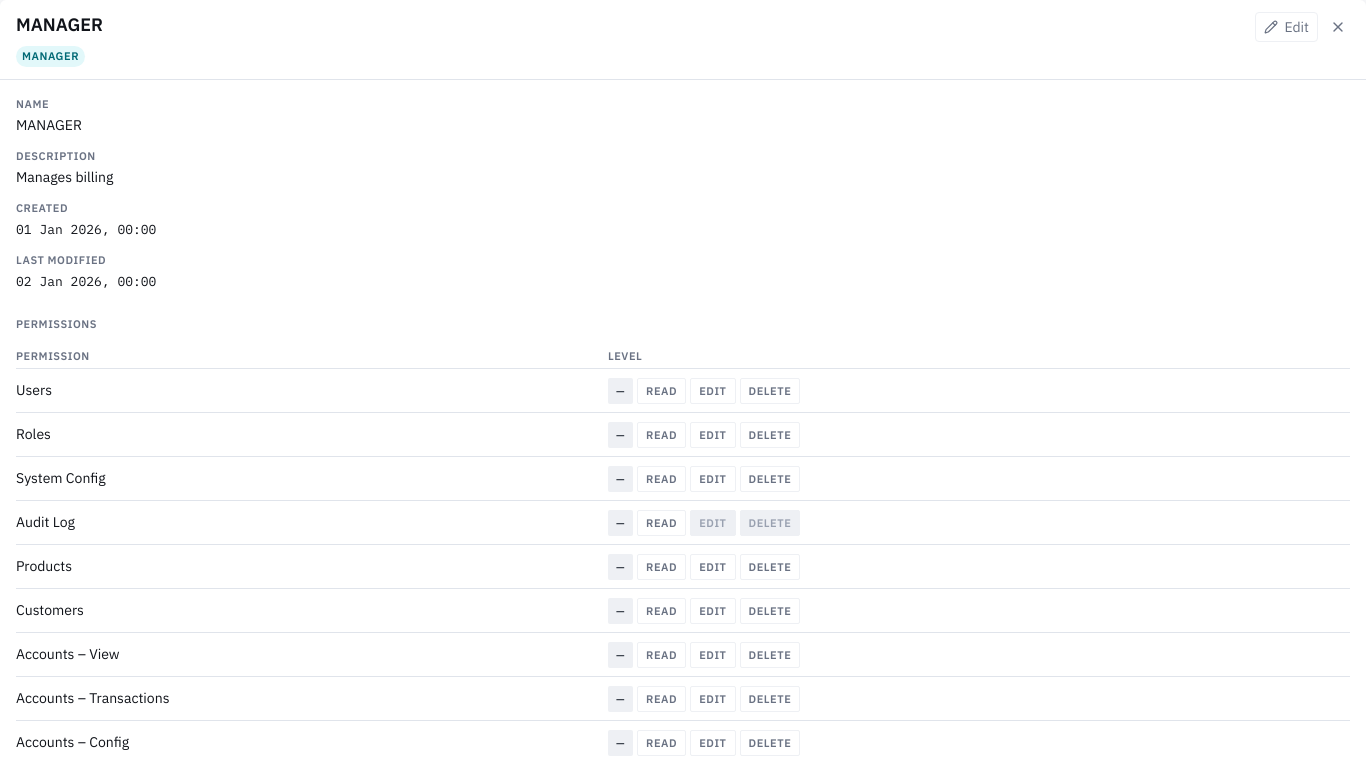
Test: RoleDetail edit mode › clicking Edit shows RoleForm pre-populated, changes the header, and hides the close button
Click the button "Edit".
click(1287, 27)  # box [1255,12,1318,42]
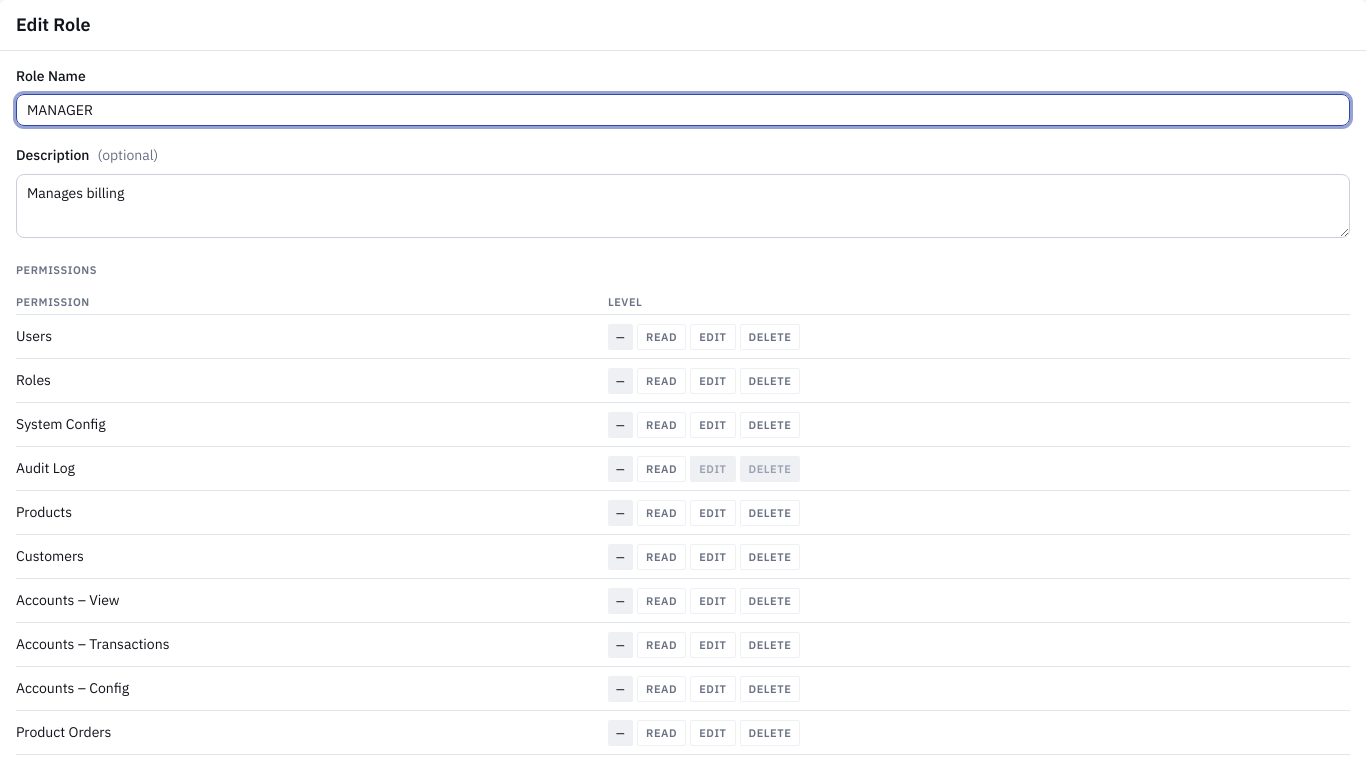
Now the heading "Edit Role" is shown, box [16,12,90,38]
Now the button "Close" is gone
Now the field labelled "Role Name" holds "MANAGER", box [16,94,1350,126]
